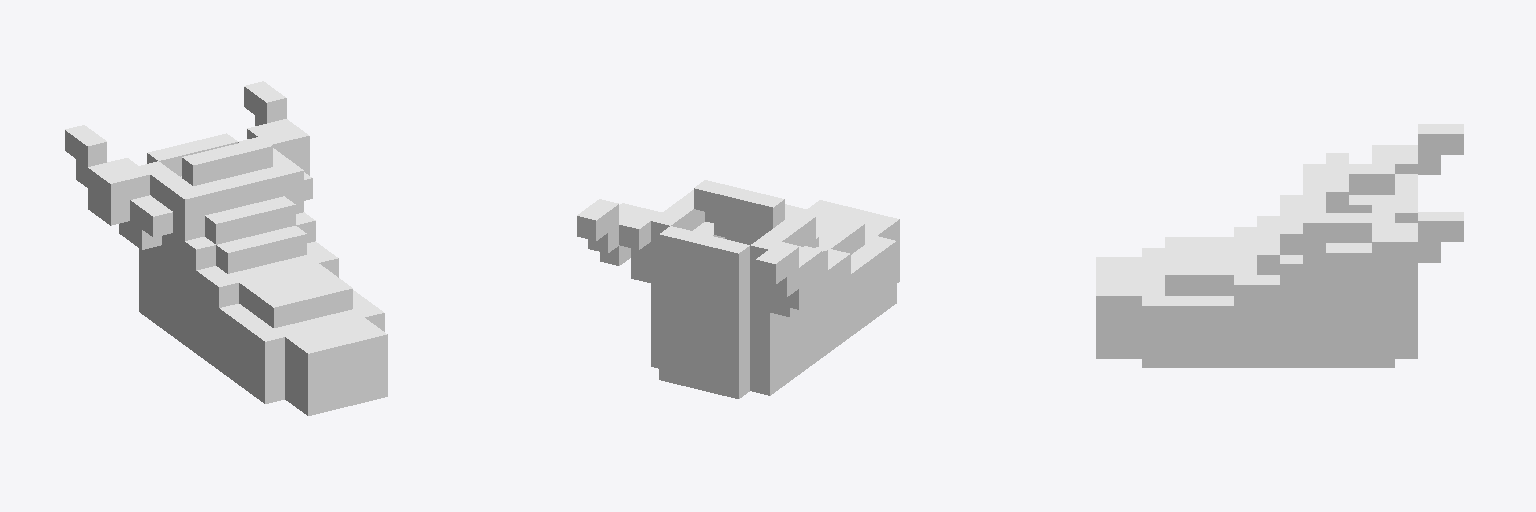
File: shoe_5k.vox.obj
3 renders of one model, left to right at view 1: azimuth 30°, elevation 25°; view 2: azimuth 150°, elevation 25°; view 3: azimuth 270°, elevation 25°, orthographic.
Parts seen in each view (by area): view 1: object 1; view 2: object 1; view 3: object 1.
Boxes of the visible parts, box(x1,y1,x2,y2) form: object 1: box(65, 81, 387, 415); object 1: box(577, 180, 899, 398); object 1: box(1096, 124, 1463, 367).
Bounding box in the file's own units: 1 × 0.8 × 1.6.